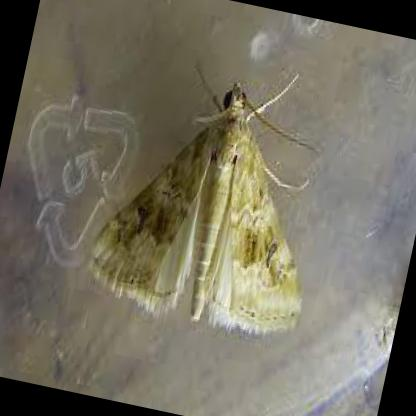Hellula undalis: (78, 58, 328, 338)
